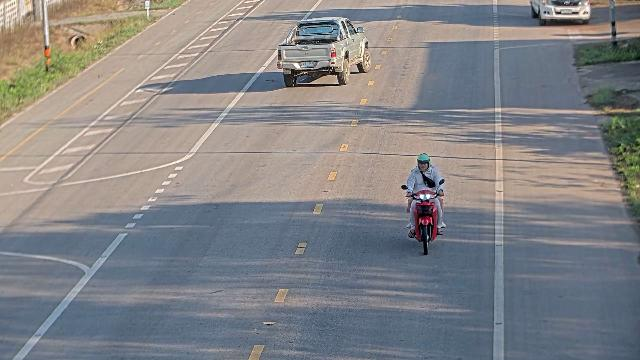motorcycle: (405, 158, 450, 257)
pickup-truck: (276, 16, 371, 87), (530, 0, 591, 25)
